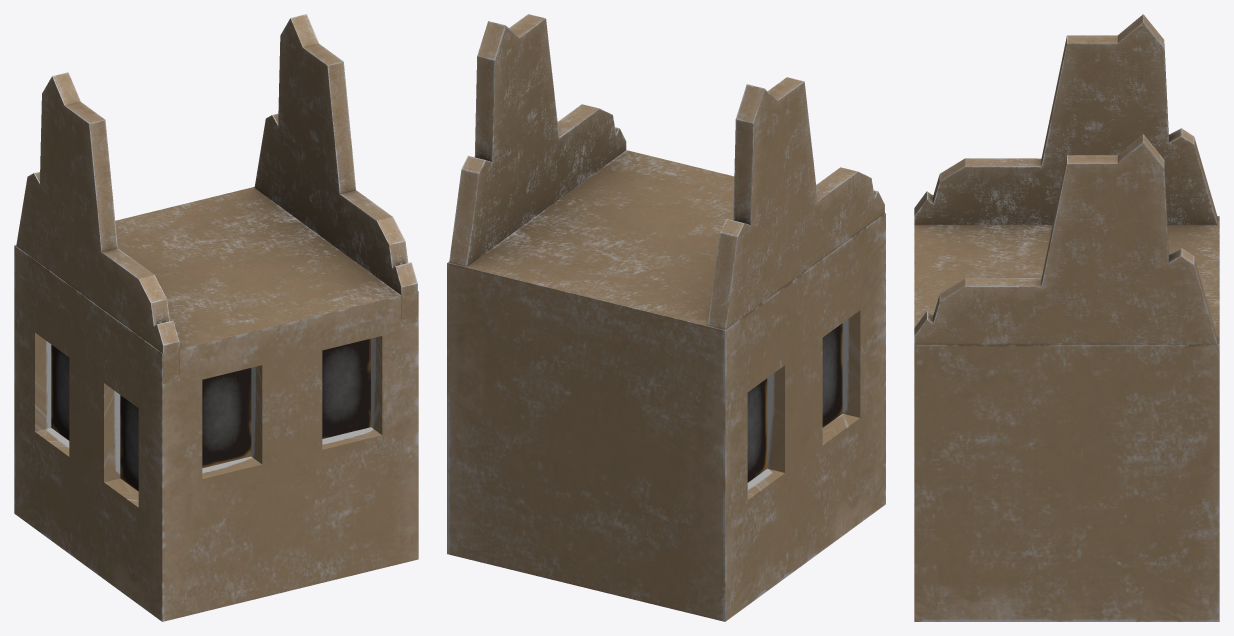
File: Bangunan Terbengkalai 1.fbx
3 renders of one model, left to right at view 1: azimuth 30°, elevation 25°; view 2: azimuth 150°, elevation 25°; view 3: azimuth 270°, elevation 25°, orthographic. The views are drawn at different scales.
Visible parts, largest first — view 1: Cube.002, Plane; view 2: Cube.002, Plane; view 3: Cube.002, Plane.
Part boxes in pixels (x1=…): Cube.002: x1=14, y1=187, x2=418, y2=621; Plane: x1=16, y1=14, x2=417, y2=384; Cube.002: x1=447, y1=150, x2=885, y2=621; Plane: x1=448, y1=14, x2=884, y2=363; Cube.002: x1=914, y1=216, x2=1219, y2=621; Plane: x1=914, y1=14, x2=1217, y2=344.
Size of the model in its own units: 200 by 346 by 200.
2 materials, 2 textured.
